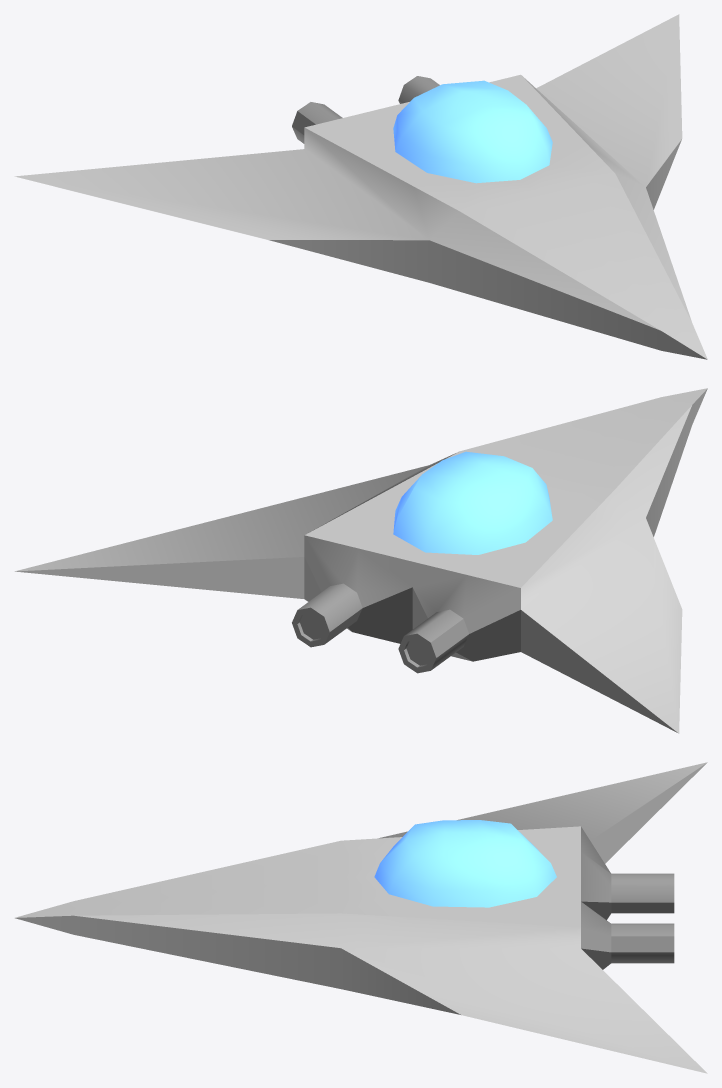
The model's file is spaceship.glb.
3 renders of one model, top to bottom at view 1: azimuth 30°, elevation 25°; view 2: azimuth 150°, elevation 25°; view 3: azimuth 270°, elevation 25°, orthographic. The views are drawn at different scales.
Parts seen in each view (by area): view 1: Plane; view 2: Plane; view 3: Plane.
Boxes of the visible parts, box(x1,y1,x2,y2) form: Plane: box(14, 14, 707, 359); Plane: box(14, 388, 707, 733); Plane: box(15, 762, 707, 1073).
Size of the model in its own units: 6.15 by 1.16 by 5.78.
